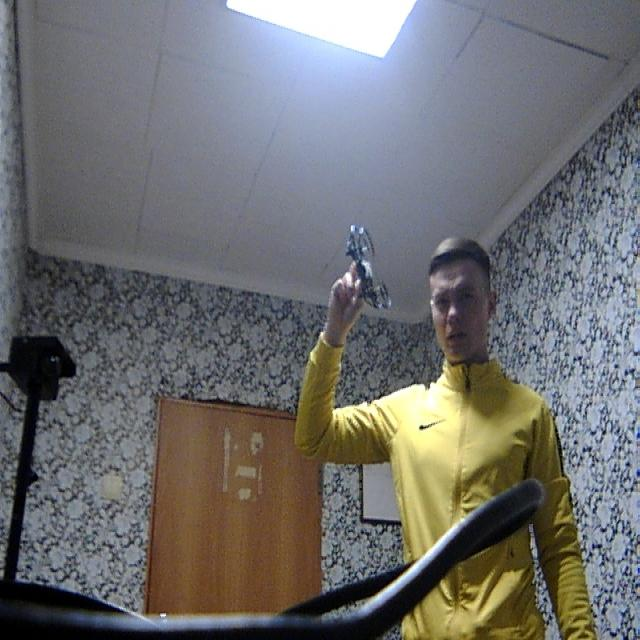drone: (334, 201, 404, 321)
